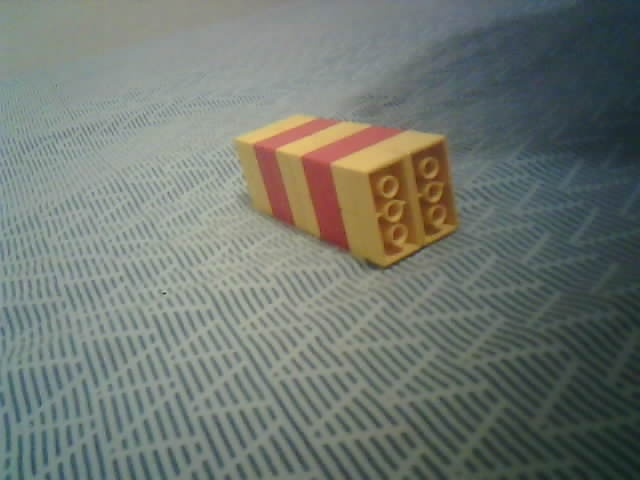lego: (234, 113, 460, 270)
